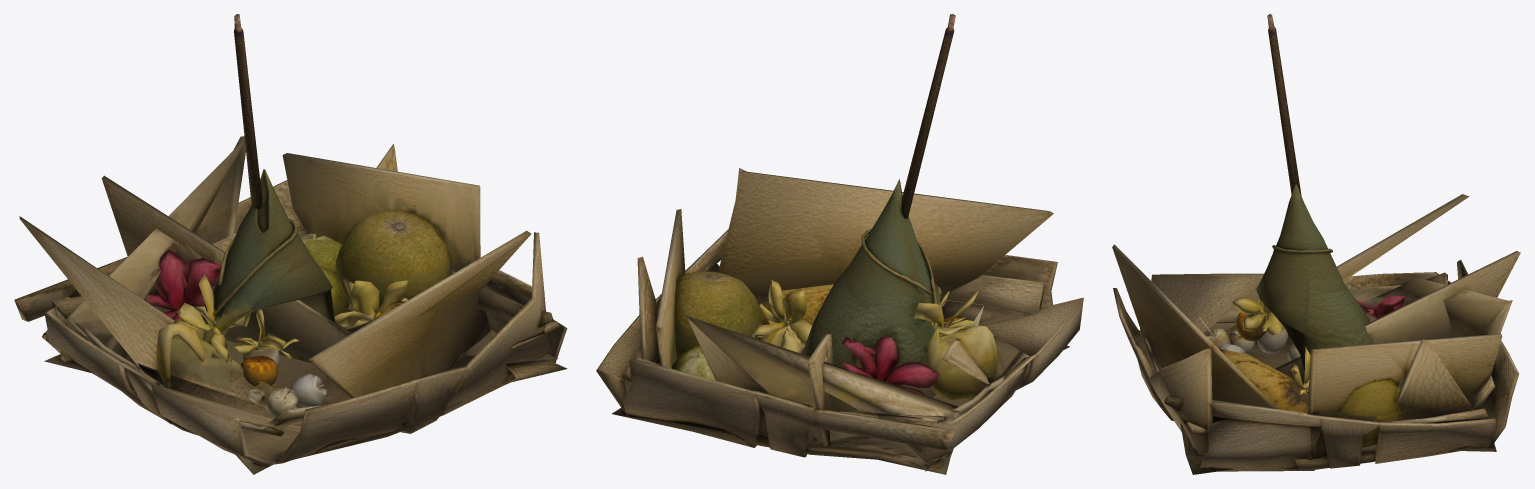
File: sistem-kepercayaan.glb
The picture shows the model from 3 angles, left to right: view 1: azimuth 30°, elevation 25°; view 2: azimuth 150°, elevation 25°; view 3: azimuth 270°, elevation 25°; orthographic projection. The views are drawn at different scales.
Visible parts, largest first — view 1: tripo_node_f2a96547-8875-4845-94c5-88cfa1472a20; view 2: tripo_node_f2a96547-8875-4845-94c5-88cfa1472a20; view 3: tripo_node_f2a96547-8875-4845-94c5-88cfa1472a20.
Part boxes in pixels (x1=…): tripo_node_f2a96547-8875-4845-94c5-88cfa1472a20: x1=14, y1=14, x2=567, y2=474; tripo_node_f2a96547-8875-4845-94c5-88cfa1472a20: x1=596, y1=14, x2=1083, y2=474; tripo_node_f2a96547-8875-4845-94c5-88cfa1472a20: x1=1112, y1=14, x2=1520, y2=474.
Size of the model in its own units: 0.998 by 0.9434 by 0.998.
Materials: 1 (1 with a texture image).
